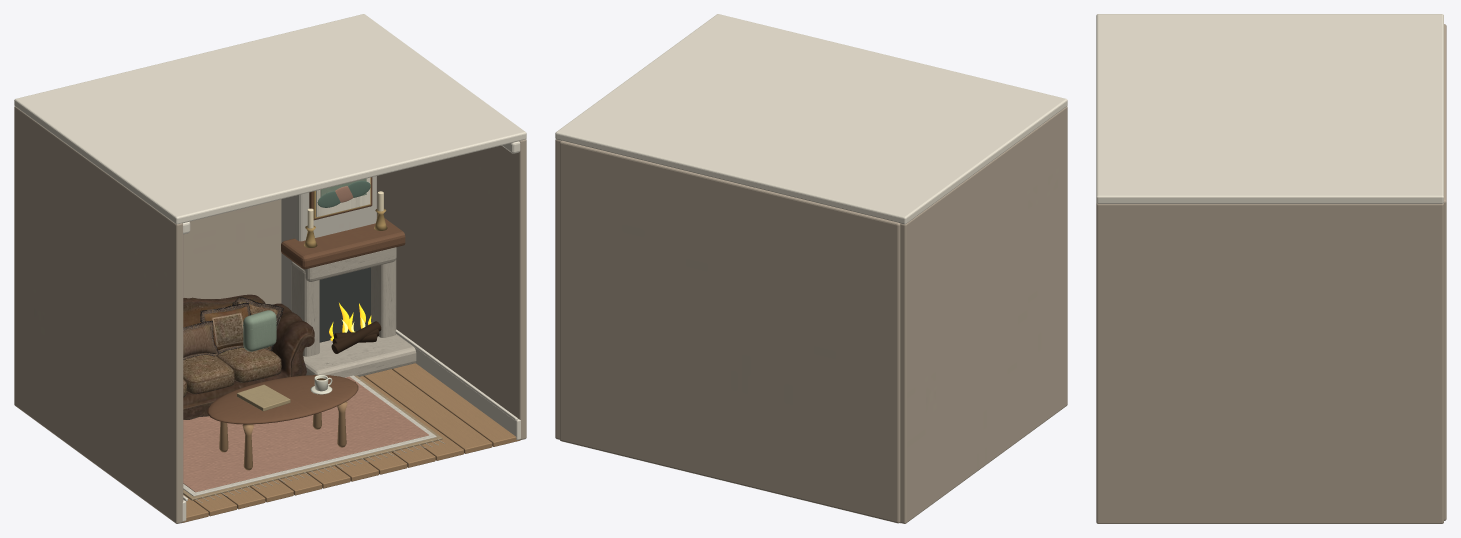
File: living.glb
3 renders of one model, left to right at view 1: azimuth 30°, elevation 25°; view 2: azimuth 150°, elevation 25°; view 3: azimuth 270°, elevation 25°, orthographic. The views are drawn at different scales.
Parts seen in each view (by area): view 1: living__Living wall, living__Painted cream, living__Oak joinery, living__Terracotta textile, living__sofa_03_sofa_03_fringe, living__Warm limestone, living__Walnut, living__Ivory plaster, living__Dark metal, living__Ivory textile, living__Rug braid, living__Sage textile (+4 smaller); view 2: living__Living wall, living__Painted cream; view 3: living__Living wall, living__Painted cream.
Boxes of the visible parts, box(x1,y1,x2,y2) form: living__Living wall: box(14, 106, 526, 523); living__Painted cream: box(14, 14, 526, 521); living__Oak joinery: box(181, 363, 520, 523); living__Terracotta textile: box(183, 186, 428, 492); living__sofa_03_sofa_03_fringe: box(183, 294, 314, 419); living__Warm limestone: box(291, 247, 416, 377); living__Walnut: box(207, 177, 405, 424); living__Ivory plaster: box(281, 176, 376, 310); living__Dark metal: box(319, 267, 370, 342); living__Ivory textile: box(183, 375, 436, 496); living__Rug braid: box(183, 375, 442, 500); living__Sage textile: box(243, 178, 366, 351); living__Living wall: box(555, 106, 1067, 523); living__Painted cream: box(555, 14, 1067, 224); living__Living wall: box(1096, 24, 1446, 523); living__Painted cream: box(1096, 14, 1443, 203).
Size of the model in its own units: 3.3 by 2.76 by 2.67.
25 materials, 16 textured.
